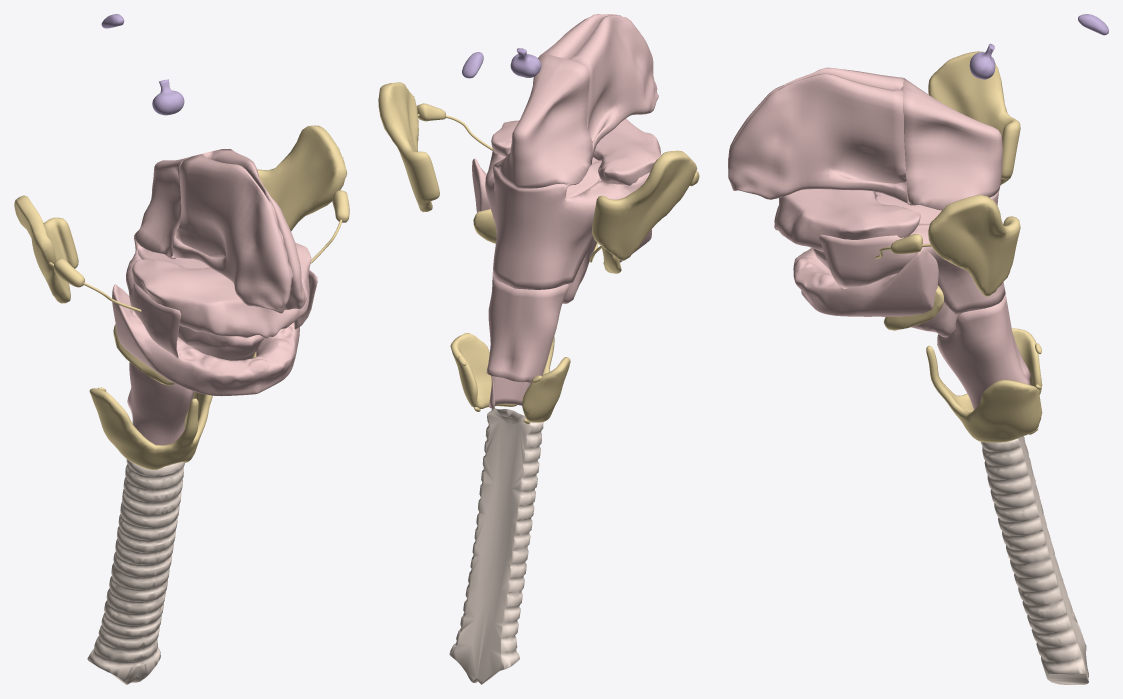
The model's file is viscera_head_neck.glb.
3 renders of one model, left to right at view 1: azimuth 30°, elevation 25°; view 2: azimuth 150°, elevation 25°; view 3: azimuth 270°, elevation 25°, orthographic. The views are drawn at different scales.
Visible parts, largest first — view 1: Gingiva, Mucosa of nasal cavity, Trachea, Parotid gland (L), Thyroid gland, Laryngopharynx, Nasopharynx, Parotid gland (R), Oropharynx, Tongue, Adenohypophysis, Soft palate (+2 smaller); view 2: Trachea, Oropharynx, Nasopharynx, Mucosa of nasal cavity, Laryngopharynx, Parotid gland (R), Gingiva, Thyroid gland, Parotid gland (L), Soft palate, Submandibular gland (L), Tongue (+1 smaller); view 3: Mucosa of nasal cavity, Gingiva, Trachea, Nasopharynx, Parotid gland (L), Oropharynx, Thyroid gland, Laryngopharynx, Parotid gland (R), Tongue, Submandibular gland (L), Soft palate.
Part boxes in pixels (<box>): Gingiva: <box>112,242,311,396</box>; Mucosa of nasal cavity: <box>173,149,306,313</box>; Trachea: <box>87,459,184,684</box>; Parotid gland (L): <box>257,125,347,231</box>; Thyroid gland: <box>89,388,212,469</box>; Laryngopharynx: <box>127,362,194,445</box>; Nasopharynx: <box>134,149,218,257</box>; Parotid gland (R): <box>14,195,78,303</box>; Oropharynx: <box>126,238,317,358</box>; Tongue: <box>178,325,264,360</box>; Adenohypophysis: <box>153,79,184,115</box>; Soft palate: <box>134,235,209,268</box>; Trachea: <box>449,407,543,684</box>; Oropharynx: <box>485,149,649,289</box>; Nasopharynx: <box>493,55,592,188</box>; Mucosa of nasal cavity: <box>540,14,658,158</box>; Laryngopharynx: <box>486,275,569,408</box>; Parotid gland (R): <box>592,150,697,260</box>; Gingiva: <box>472,118,660,262</box>; Thyroid gland: <box>450,333,570,422</box>; Parotid gland (L): <box>378,82,439,212</box>; Soft palate: <box>493,157,601,197</box>; Submandibular gland (L): <box>473,209,496,243</box>; Tongue: <box>562,178,601,303</box>; Mucosa of nasal cavity: <box>728,67,907,202</box>; Gingiva: <box>774,189,938,316</box>; Trachea: <box>981,436,1088,684</box>; Nasopharynx: <box>903,78,1002,209</box>; Parotid gland (L): <box>928,194,1020,296</box>; Oropharynx: <box>819,190,1005,314</box>; Thyroid gland: <box>926,328,1042,442</box>; Laryngopharynx: <box>937,294,1030,409</box>; Parotid gland (R): <box>928,51,1020,185</box>; Tongue: <box>811,248,960,337</box>; Submandibular gland (L): <box>884,285,943,330</box>; Soft palate: <box>874,191,942,224</box>.
Bounding box in the file's own units: 0.1331 × 0.2708 × 0.1398.
